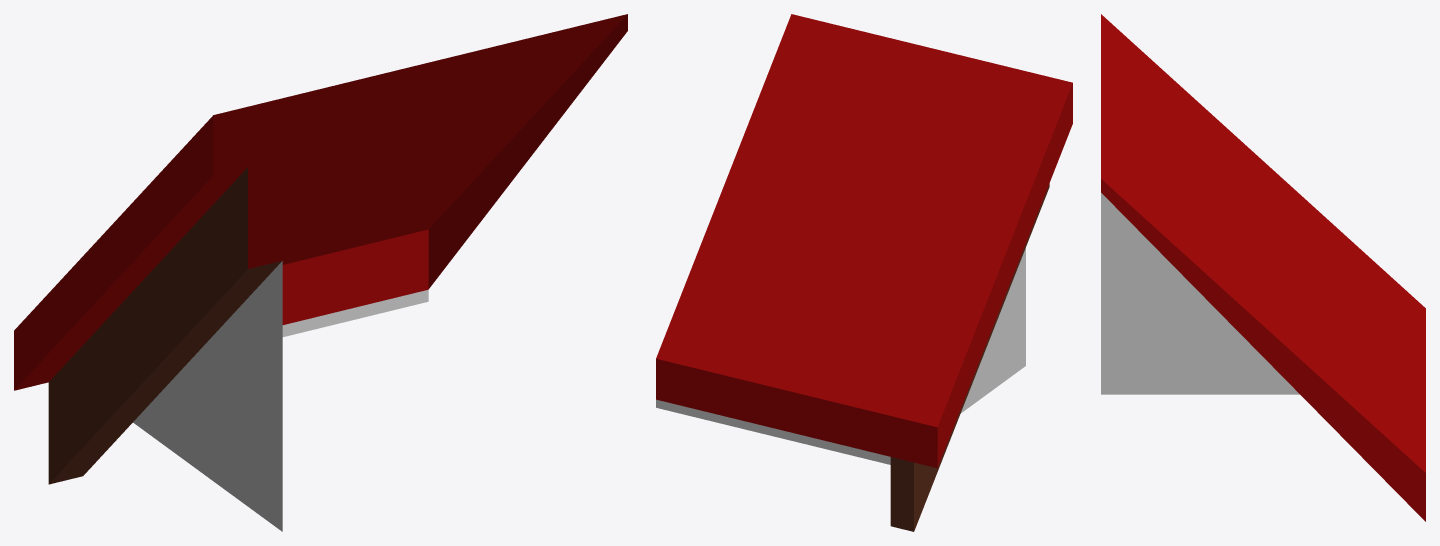
File: Roof_Edge_Top.fbx
3 renders of one model, left to right at view 1: azimuth 30°, elevation 25°; view 2: azimuth 150°, elevation 25°; view 3: azimuth 270°, elevation 25°, orthographic. The views are drawn at different scales.
Parts seen in each view (by area): view 1: Roof_Edge_no_1; view 2: Roof_Edge_no_1; view 3: Roof_Edge_no_1.
Boxes of the visible parts, left/top/right/bottom form: Roof_Edge_no_1: left=14, top=14, right=627, bottom=531; Roof_Edge_no_1: left=656, top=14, right=1072, bottom=531; Roof_Edge_no_1: left=1101, top=14, right=1425, bottom=521.
Size of the model in its own units: 0.012 by 0.0145 by 0.01.
